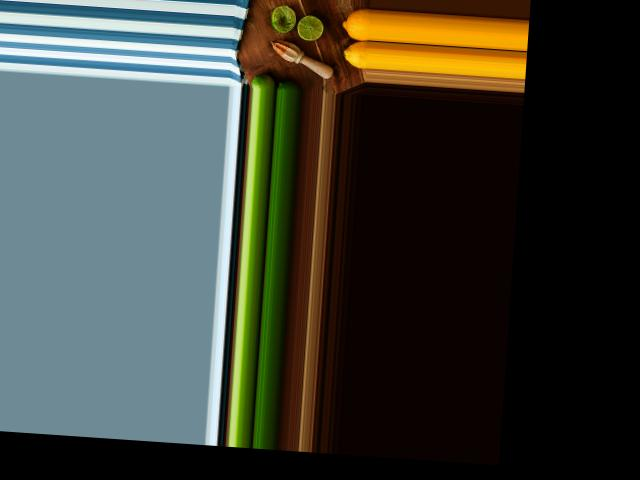lemon: (337, 4, 369, 44)
